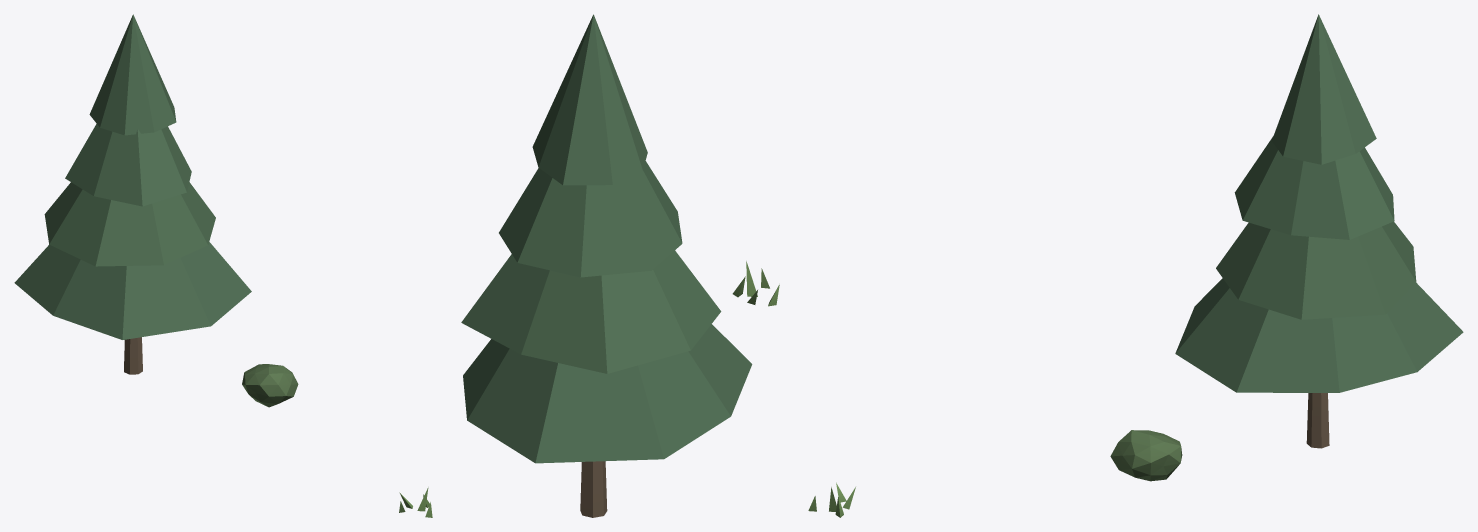
The model's file is arch_land_scatter_c18_19.glb.
3 renders of one model, left to right at view 1: azimuth 30°, elevation 25°; view 2: azimuth 150°, elevation 25°; view 3: azimuth 270°, elevation 25°, orthographic. The views are drawn at different scales.
Parts seen in each view (by area): view 1: arch_land_scatter_c18_19; view 2: arch_land_scatter_c18_19; view 3: arch_land_scatter_c18_19.
Part boxes in pixels (x1,y1,x2,y2): arch_land_scatter_c18_19: (14,14,432,517); arch_land_scatter_c18_19: (461,14,779,517); arch_land_scatter_c18_19: (808,14,1463,517).
Size of the model in its own units: 6.74 by 12.64 by 16.85.
